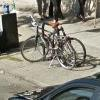Bicycle: (19, 12, 89, 74)
